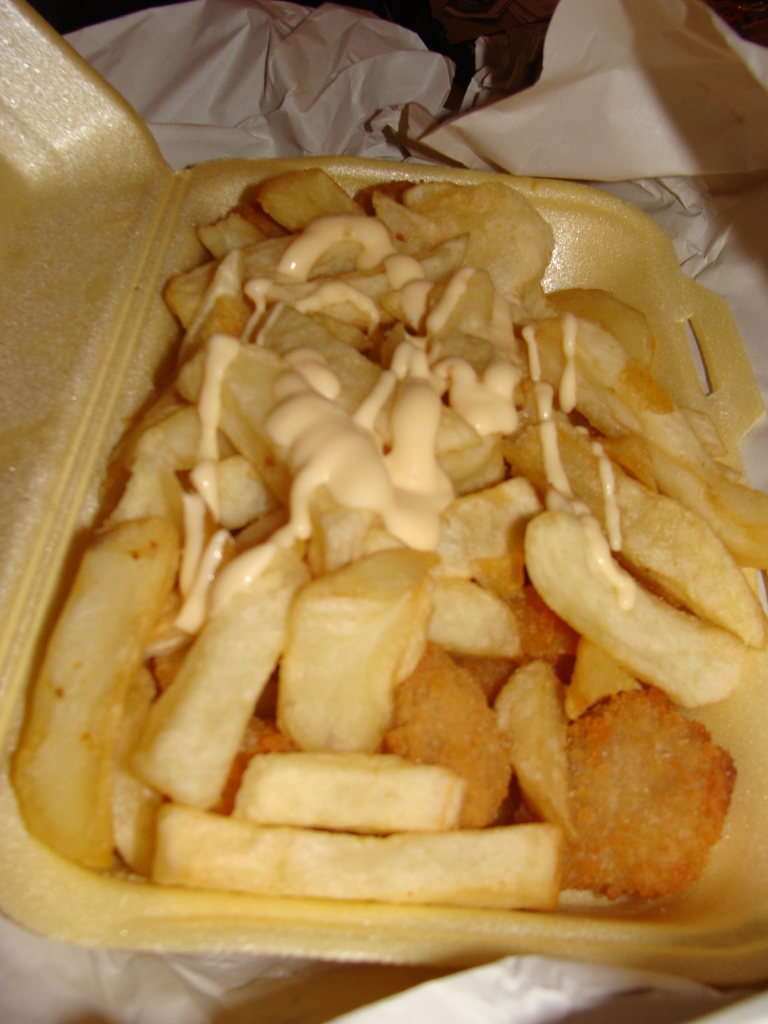French fries: (0, 151, 767, 914)
